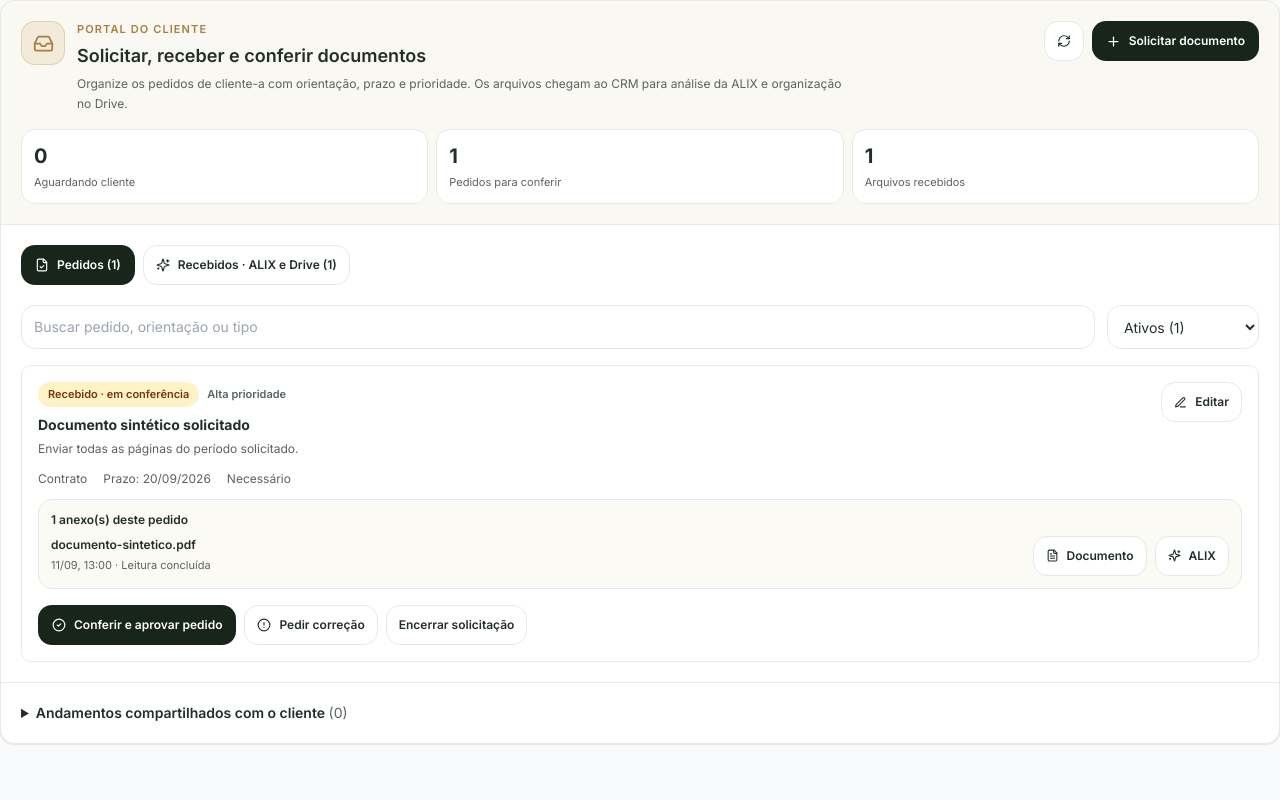
Test: Equipe: pedidos versionados e acesso restrito ao cliente atual › trocar de cliente fecha o formulário e remove documentos e dados anteriores imediatamente
Click the button "Editar" at (1202, 402), box [1161,382,1242,422]
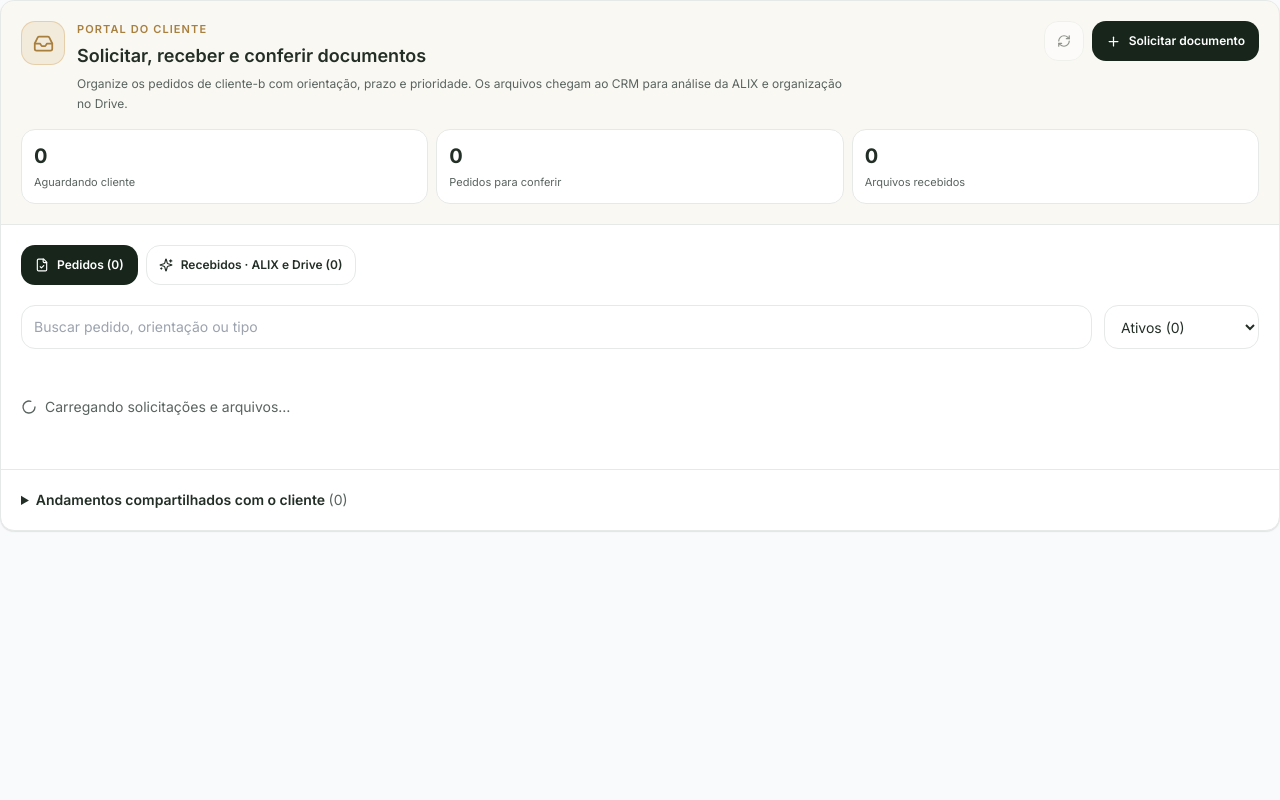
Expected: the text "Documento sintético solicitado" is gone
Expected: the text "documento-sintetico.pdf" is gone
Expected: the text "Carregando solicitações" is shown, [45,398,290,415]
